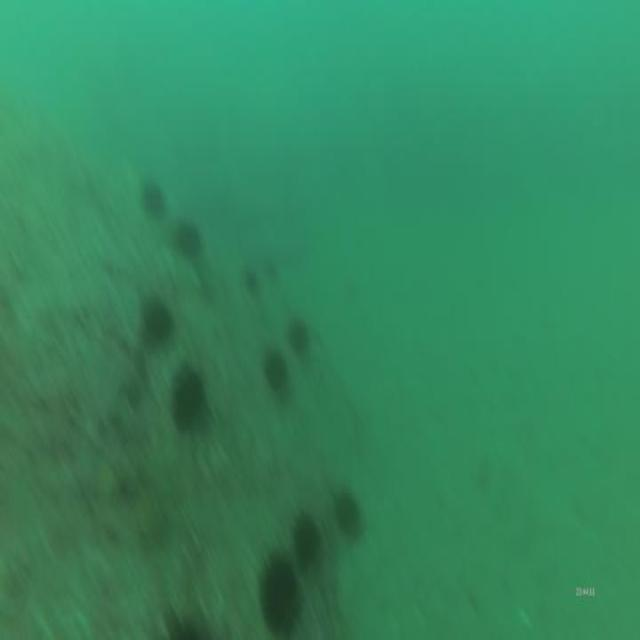echinus: (255, 545, 303, 640), (168, 362, 209, 441), (137, 283, 176, 357), (330, 481, 368, 552), (290, 507, 322, 572), (258, 344, 290, 400), (170, 212, 202, 264), (136, 169, 166, 223), (284, 318, 311, 362), (242, 264, 260, 300)
